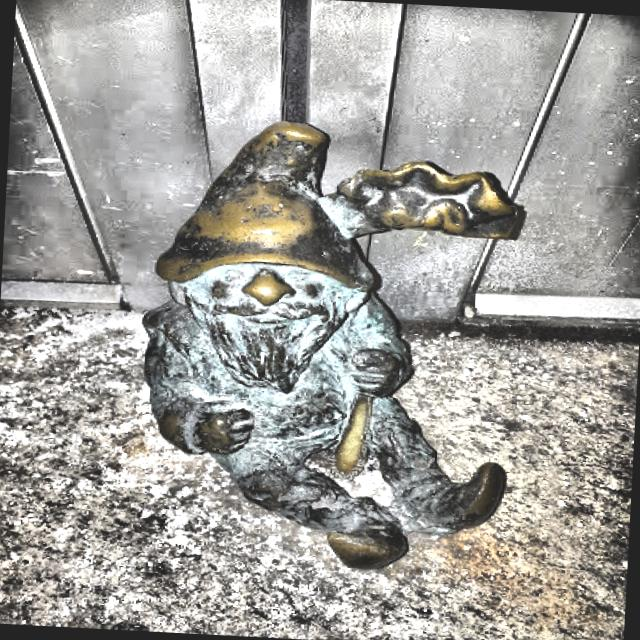Pieroznik: (144, 122, 518, 572)
